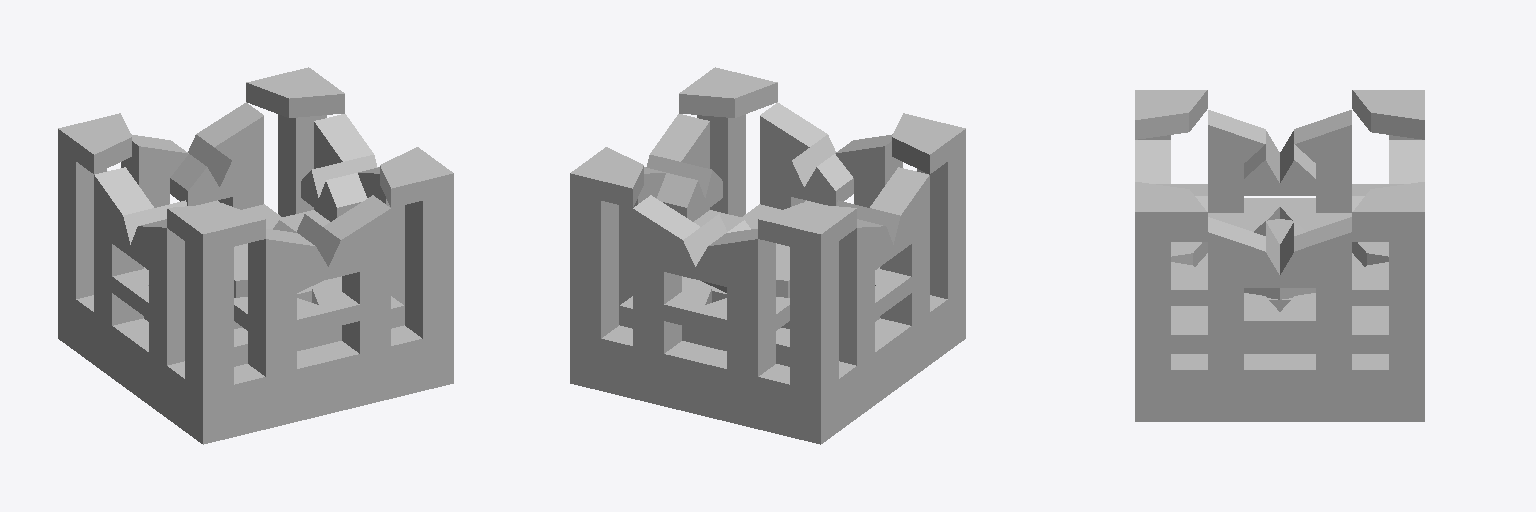
File: MatrixAbsorber.obj
3 views of the same model, side by side, from view 1: azimuth 30°, elevation 25°; view 2: azimuth 150°, elevation 25°; view 3: azimuth 270°, elevation 25° (orthographic).
Visible parts, largest first — view 1: pCube1; view 2: pCube1; view 3: pCube1.
Part boxes in pixels (x1,y1,x2,y2): pCube1: (58,67,453,444); pCube1: (570,67,965,444); pCube1: (1135,90,1424,421).
Bounding box in the file's own units: 1 × 0.8 × 1.